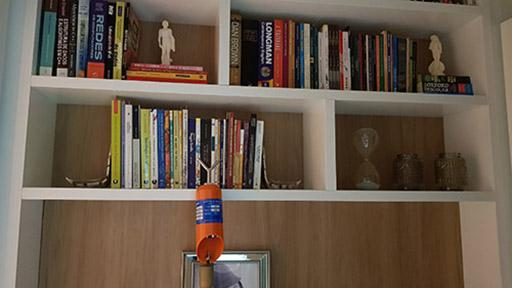Detector_Tensao_Contato: (193, 158, 224, 268)
